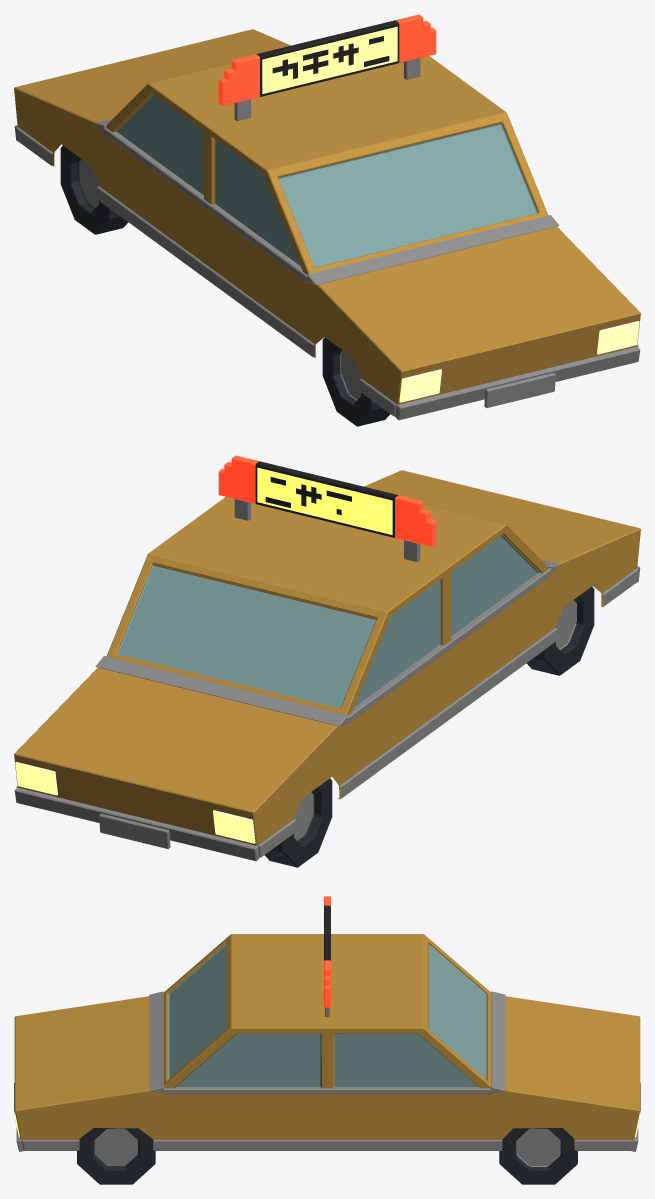
The model's file is taxi_high.fbx.
3 views of the same model, one above another, from view 1: azimuth 30°, elevation 25°; view 2: azimuth 150°, elevation 25°; view 3: azimuth 270°, elevation 25° (orthographic). The views are drawn at different scales.
Parts seen in each view (by area): view 1: high; view 2: high; view 3: high.
Boxes of the visible parts, bbox=[...] form: high: bbox=[14, 14, 640, 426]; high: bbox=[14, 455, 640, 867]; high: bbox=[14, 896, 640, 1184].
Size of the model in its own units: 203 by 206 by 561.
